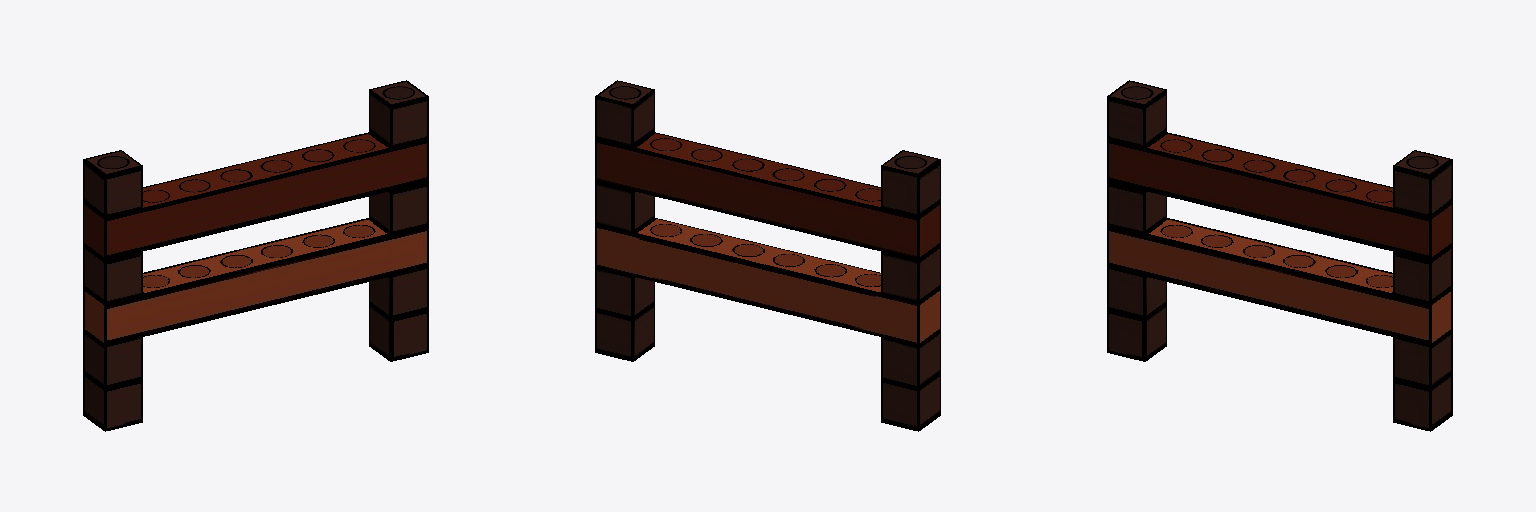
The picture shows the model from 3 angles: view 1: azimuth 30°, elevation 25°; view 2: azimuth 150°, elevation 25°; view 3: azimuth 330°, elevation 25°; orthographic projection.
Visible parts, largest first — view 1: Cube; view 2: Cube; view 3: Cube.
Boxes of the visible parts, <box> form: Cube: <box>83,80,428,431</box>; Cube: <box>595,80,940,431</box>; Cube: <box>1107,80,1452,431</box>.
Size of the model in its own units: 7.87 by 5.96 by 0.9293.
1 materials, 1 textured.